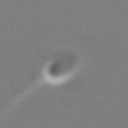normal: (1, 74, 45, 118)
